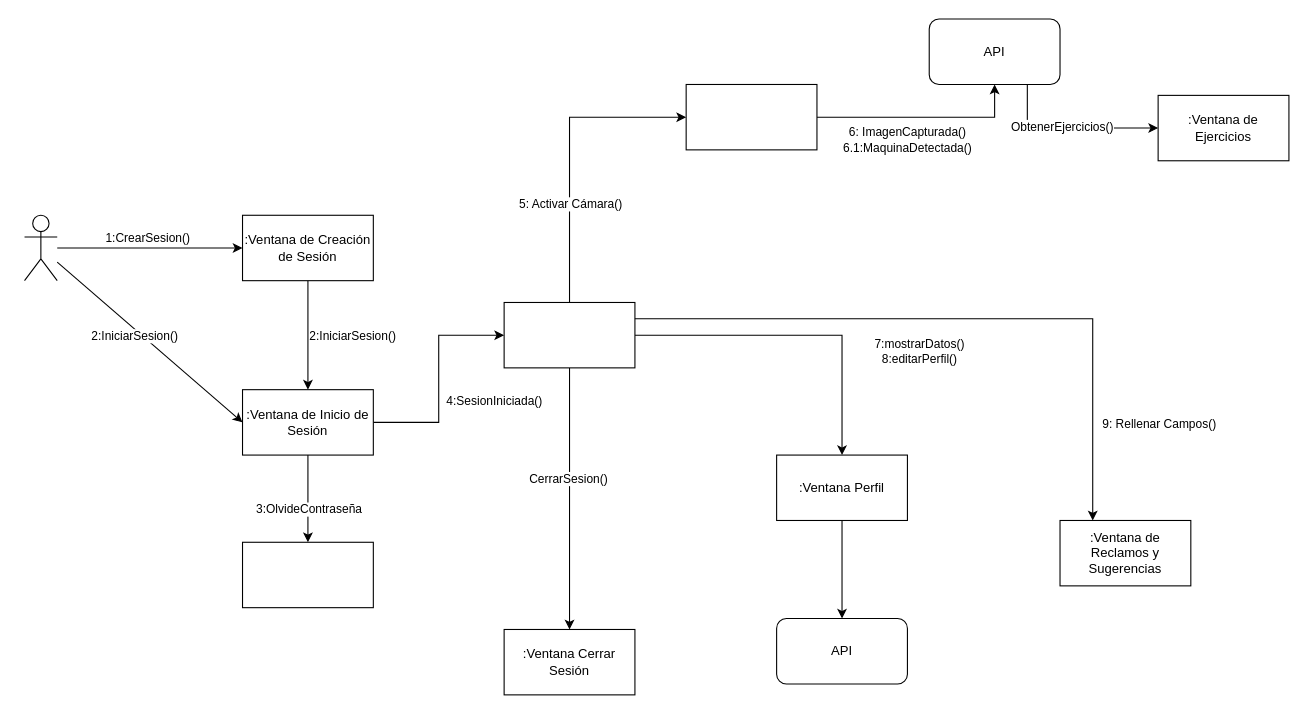
This 1308x714 diagram has some shape labels left out. Each missing label, with the centre of its shape:
":Ventana de Inicio" goes at point 569,334.
":Ventana de olvide contraseña" goes at point 307,574.
":Ventana Escaneo" goes at point 751,116.
"Usuario" goes at point 40,247.
